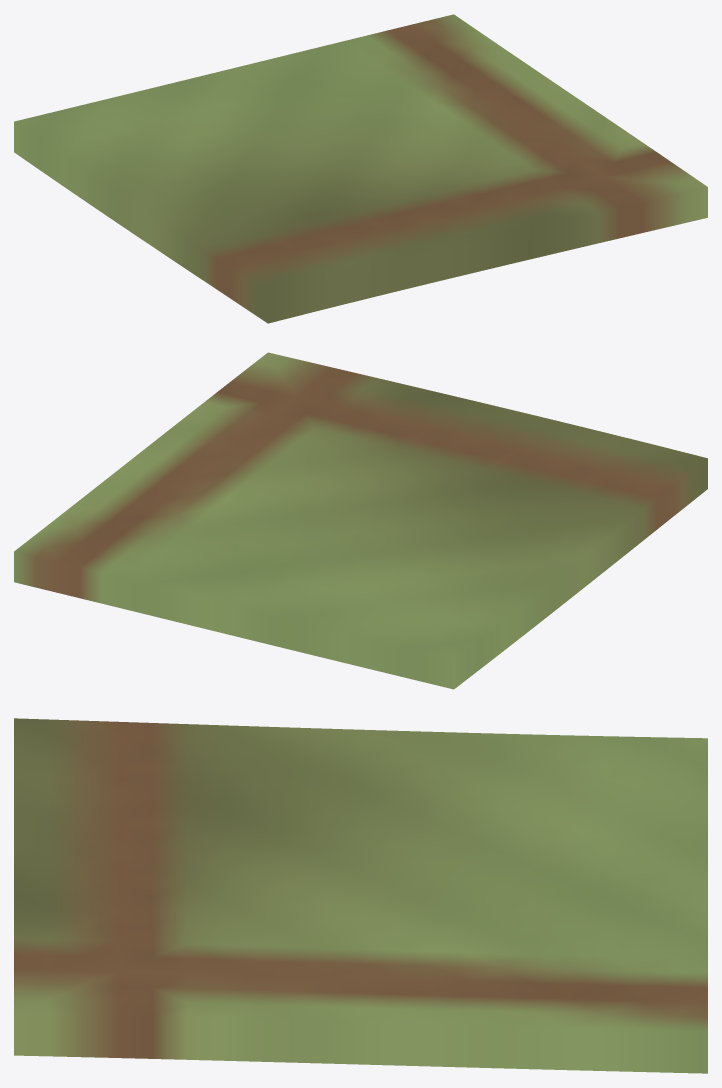
3 views of the same model, one above another, from view 1: azimuth 30°, elevation 25°; view 2: azimuth 150°, elevation 25°; view 3: azimuth 270°, elevation 25° (orthographic). The views are drawn at different scales.
Visible parts, largest first — view 1: terrain; view 2: terrain; view 3: terrain.
Part boxes in pixels (left/top/right/bottom): terrain: left=14, top=14, right=707, bottom=323; terrain: left=14, top=352, right=707, bottom=689; terrain: left=14, top=718, right=707, bottom=1073.
Bounding box in the file's own units: 30 × 3.01 × 30.
